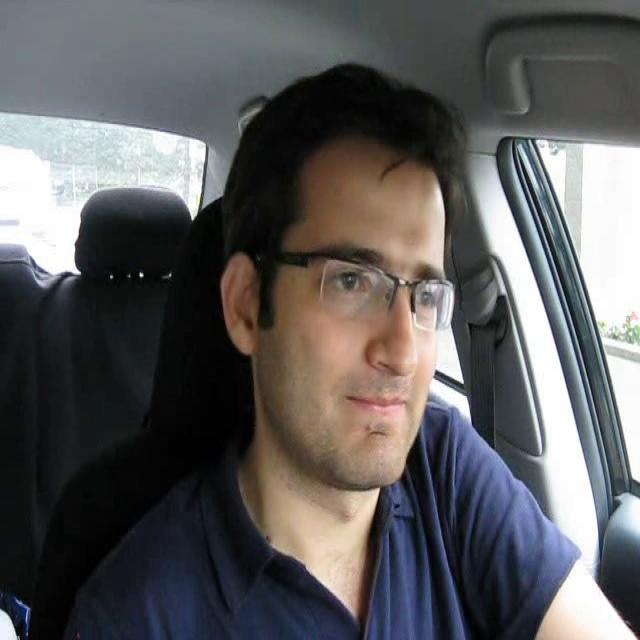close: (344, 385, 414, 423)
